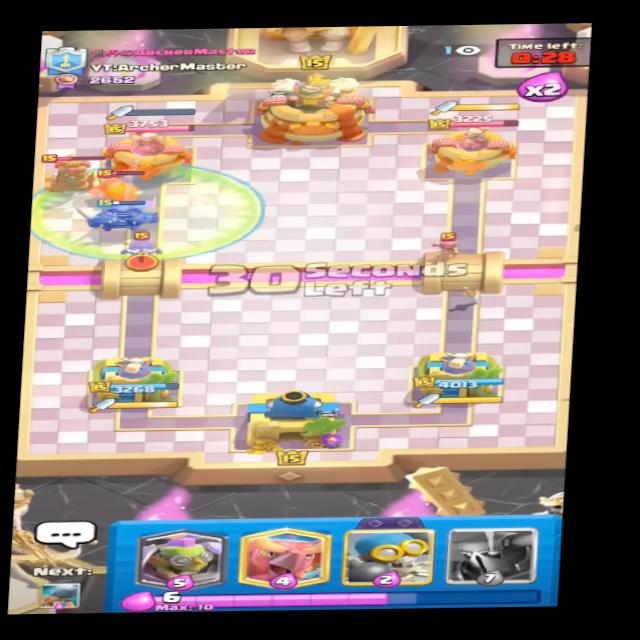archer: (427, 234, 464, 256)
electro-spirit: (122, 231, 167, 260)
knight: (91, 174, 147, 205)
tesla: (34, 150, 113, 201)
